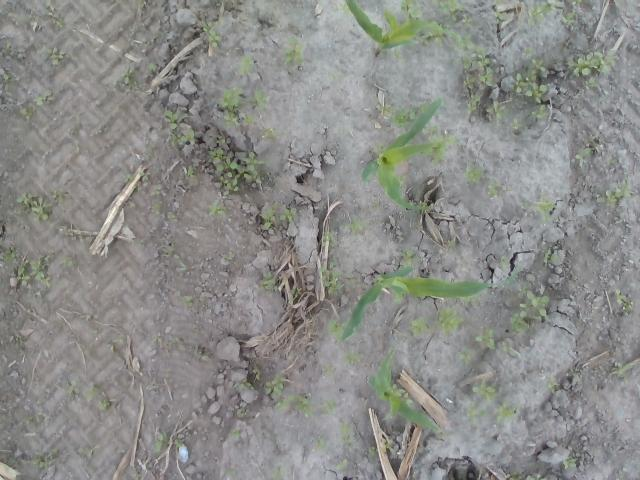Maize: (340, 268, 492, 342), (363, 93, 445, 213), (342, 0, 442, 61), (365, 354, 432, 429)
Weeds: (461, 46, 512, 122), (208, 136, 269, 198), (568, 49, 616, 86), (511, 287, 549, 333), (512, 58, 548, 104), (425, 122, 457, 166), (16, 190, 55, 224), (14, 255, 52, 288), (597, 175, 633, 207), (216, 87, 244, 128), (427, 306, 465, 335), (264, 372, 288, 415), (431, 0, 472, 25), (260, 206, 302, 230), (316, 260, 342, 297), (112, 64, 144, 92), (522, 198, 554, 225), (528, 2, 561, 25), (281, 34, 304, 66), (202, 15, 224, 48), (576, 134, 602, 161), (391, 383, 417, 409), (492, 400, 520, 424), (31, 448, 58, 472), (444, 29, 478, 48), (470, 378, 499, 400), (288, 392, 314, 416), (392, 105, 417, 129), (472, 325, 497, 349), (338, 215, 368, 234), (399, 248, 422, 272), (398, 0, 424, 20), (616, 288, 634, 316), (169, 128, 195, 147), (334, 420, 352, 447), (162, 109, 185, 130), (466, 402, 486, 426), (248, 88, 268, 112), (0, 68, 17, 96), (39, 46, 64, 65), (206, 201, 232, 219), (414, 31, 441, 48), (152, 432, 170, 456), (326, 318, 345, 340), (456, 350, 482, 366), (611, 360, 634, 378), (408, 318, 427, 339), (256, 271, 275, 290), (542, 248, 562, 266), (0, 246, 18, 266), (320, 398, 338, 417), (342, 348, 361, 366), (240, 54, 255, 76), (494, 0, 507, 25), (462, 166, 480, 184), (158, 239, 176, 257), (81, 382, 98, 401), (526, 104, 546, 120), (64, 378, 80, 398), (270, 463, 288, 480), (322, 231, 338, 249), (16, 104, 33, 120), (60, 255, 76, 272), (392, 48, 409, 64), (374, 103, 392, 118), (562, 10, 578, 26), (287, 287, 303, 303), (176, 254, 190, 272), (543, 376, 558, 392), (51, 14, 66, 30), (49, 185, 64, 201), (336, 2, 353, 16), (5, 448, 18, 466), (310, 436, 329, 448), (96, 398, 112, 412), (232, 382, 256, 391), (562, 455, 576, 470), (520, 46, 539, 57), (344, 272, 358, 286), (261, 127, 276, 140), (182, 164, 197, 177), (34, 95, 44, 114), (447, 239, 458, 256), (487, 180, 498, 197), (505, 272, 518, 286), (251, 364, 262, 380), (164, 335, 176, 349), (150, 184, 162, 198), (227, 464, 240, 476), (147, 63, 160, 75), (243, 114, 256, 126), (167, 211, 179, 224), (504, 472, 522, 480), (396, 174, 408, 186), (499, 256, 509, 270), (182, 294, 194, 305), (151, 204, 162, 216), (512, 117, 522, 130), (112, 334, 125, 344), (322, 366, 335, 376), (22, 416, 36, 425), (14, 334, 24, 346), (502, 342, 514, 352), (230, 430, 242, 440), (368, 446, 378, 458), (526, 474, 544, 480), (140, 170, 149, 182), (336, 463, 346, 473), (238, 407, 248, 417), (124, 172, 134, 182), (136, 0, 147, 9), (566, 0, 585, 5), (152, 335, 162, 344), (174, 438, 183, 448), (134, 181, 142, 192), (567, 368, 576, 377), (71, 127, 80, 136), (134, 474, 147, 480), (616, 471, 624, 480), (95, 128, 104, 135)
